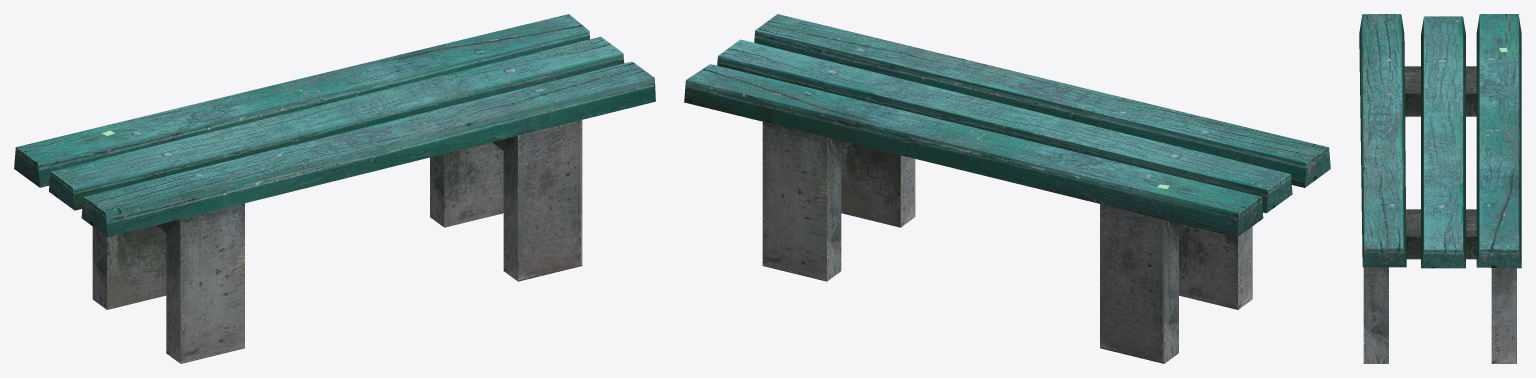
Rendered from lowpoly_bench.glb.
The picture shows the model from 3 angles, left to right: view 1: azimuth 30°, elevation 25°; view 2: azimuth 150°, elevation 25°; view 3: azimuth 270°, elevation 25°; orthographic projection. The views are drawn at different scales.
Parts seen in each view (by area): view 1: bench1_bench1_0; view 2: bench1_bench1_0; view 3: bench1_bench1_0.
Boxes of the visible parts, left/top/right/bottom form: bench1_bench1_0: left=14, top=14, right=655, bottom=363; bench1_bench1_0: left=684, top=14, right=1330, bottom=363; bench1_bench1_0: left=1359, top=14, right=1521, bottom=363.
Size of the model in its own units: 151 by 44.2 by 44.07.
1 material, 1 textured.
